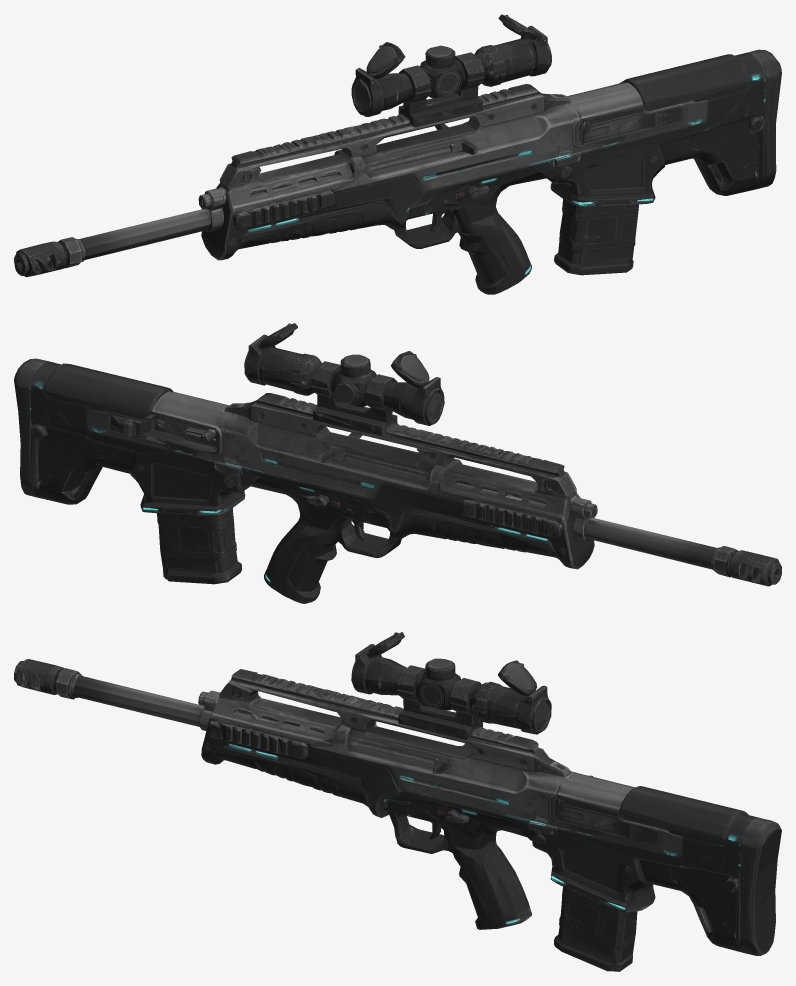
File: burst_rifle.glb
3 views of the same model, one above another, from view 1: azimuth 30°, elevation 25°; view 2: azimuth 150°, elevation 25°; view 3: azimuth 330°, elevation 25° (orthographic).
Visible parts, largest first — view 1: Mesh_0; view 2: Mesh_0; view 3: Mesh_0.
Part boxes in pixels (x1=…): Mesh_0: x1=14, y1=14, x2=781, y2=294; Mesh_0: x1=14, y1=323, x2=781, y2=603; Mesh_0: x1=14, y1=632, x2=781, y2=971.
Bounding box in the file's own units: 1.9 × 0.6619 × 0.186.
Materials: 1 (1 with a texture image).
